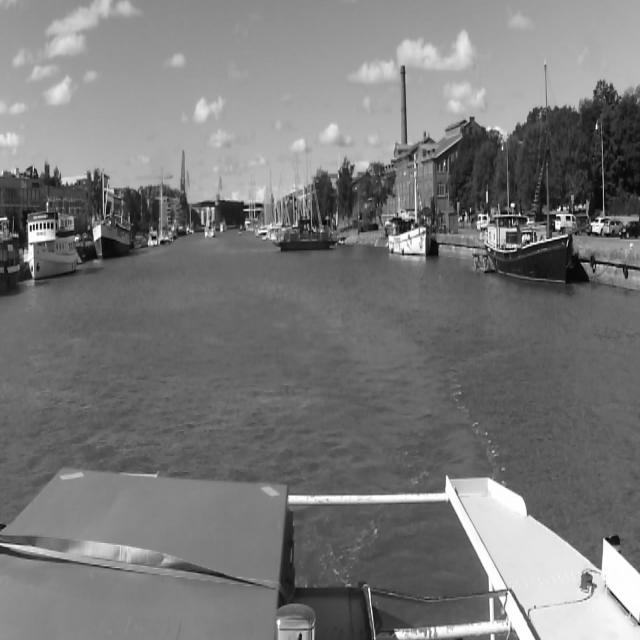ship: (482, 217, 571, 294), (383, 152, 431, 260), (91, 172, 133, 262), (23, 215, 78, 281), (275, 218, 343, 252), (200, 214, 219, 241), (150, 228, 164, 248)
